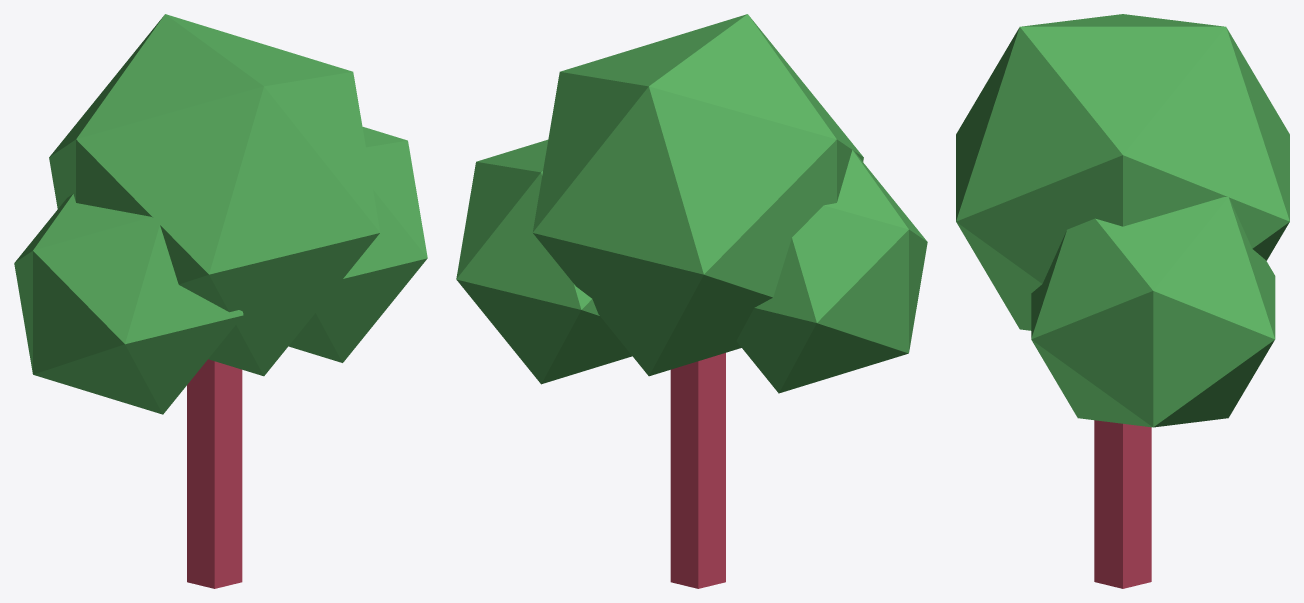
Rendered from tree.glb.
3 views of the same model, side by side, from view 1: azimuth 30°, elevation 25°; view 2: azimuth 150°, elevation 25°; view 3: azimuth 270°, elevation 25° (orthographic). The views are drawn at different scales.
Parts seen in each view (by area): view 1: Crown, Trunk; view 2: Crown, Trunk; view 3: Crown, Trunk.
Part boxes in pixels (x1,y1,x2,y2): Crown: (14,14,427,414); Trunk: (187,359,242,588); Crown: (456,14,927,393); Trunk: (670,353,725,588); Crown: (956,14,1289,427); Trunk: (1094,420,1151,588).
Bounding box in the file's own units: 3.22 × 4.01 × 2.21.
